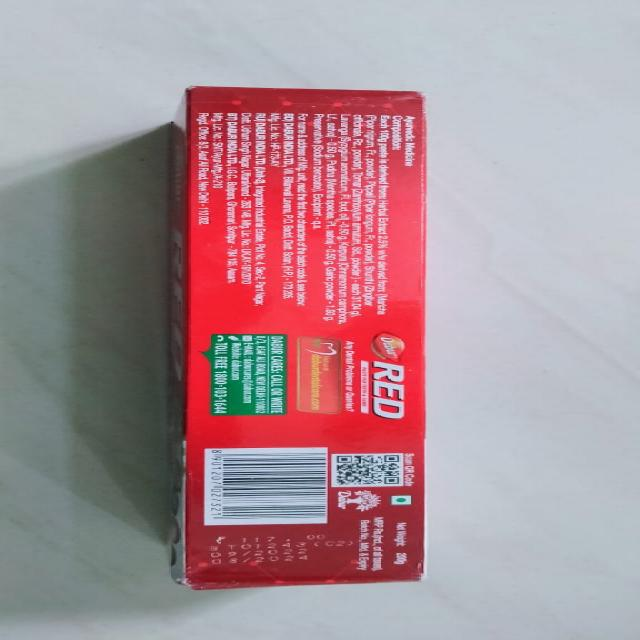tooth paste: (181, 84, 431, 585)
